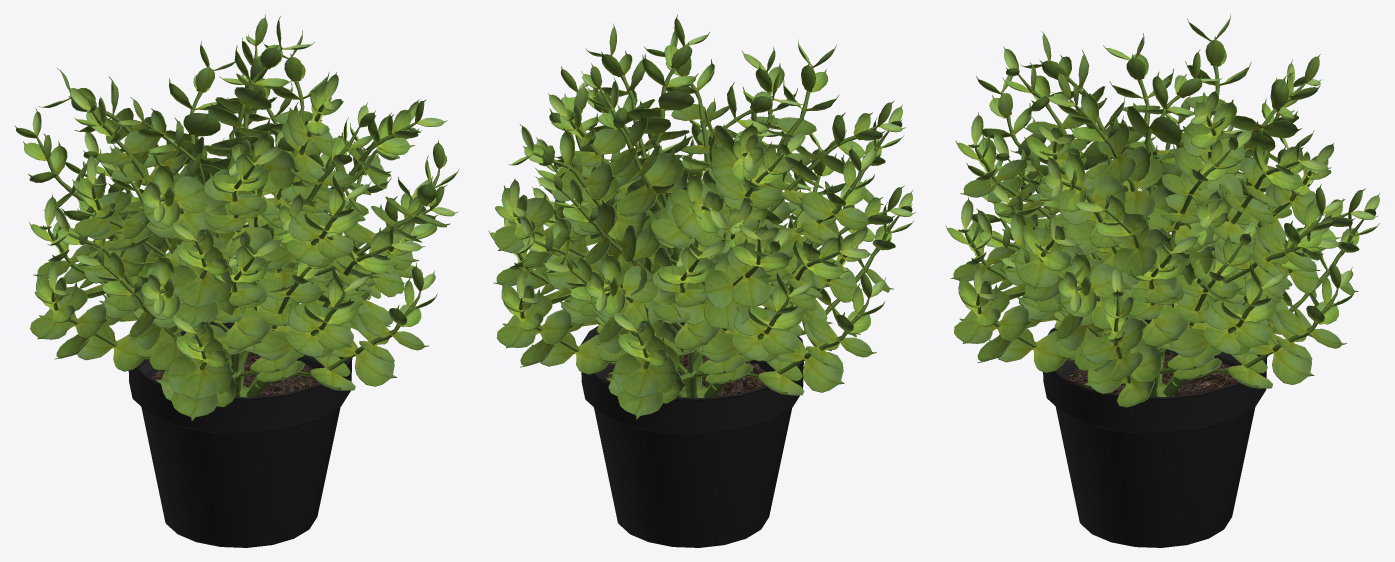
The model's file is Plant.glb.
3 views of the same model, side by side, from view 1: azimuth 30°, elevation 25°; view 2: azimuth 150°, elevation 25°; view 3: azimuth 270°, elevation 25° (orthographic).
Visible parts, largest first — view 1: Plane023.002, Plane023.001, Pot007, Plane023; view 2: Plane023.001, Plane023.002, Pot007, Plane023; view 3: Plane023.001, Plane023.002, Pot007, Plane023.
Boxes of the visible parts, x1=… form: Plane023.002: x1=23, y1=37, x2=459, y2=402; Plane023.001: x1=14, y1=14, x2=458, y2=421; Pot007: x1=128, y1=321, x2=352, y2=547; Plane023: x1=36, y1=45, x2=439, y2=397; Plane023.001: x1=501, y1=14, x2=916, y2=419; Plane023.002: x1=488, y1=41, x2=914, y2=399; Pot007: x1=581, y1=322, x2=803, y2=547; Plane023: x1=513, y1=46, x2=899, y2=397; Plane023.001: x1=958, y1=14, x2=1379, y2=407; Plane023.002: x1=945, y1=36, x2=1379, y2=381; Pot007: x1=1043, y1=318, x2=1267, y2=547; Plane023: x1=964, y1=66, x2=1363, y2=396.
Size of the model in its own units: 0.2542 by 0.2957 by 0.2522.
Materials: 5 (3 with a texture image).
